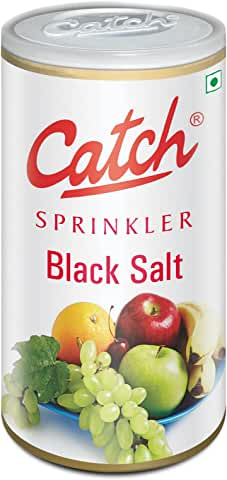veg: (202, 67, 226, 108)
